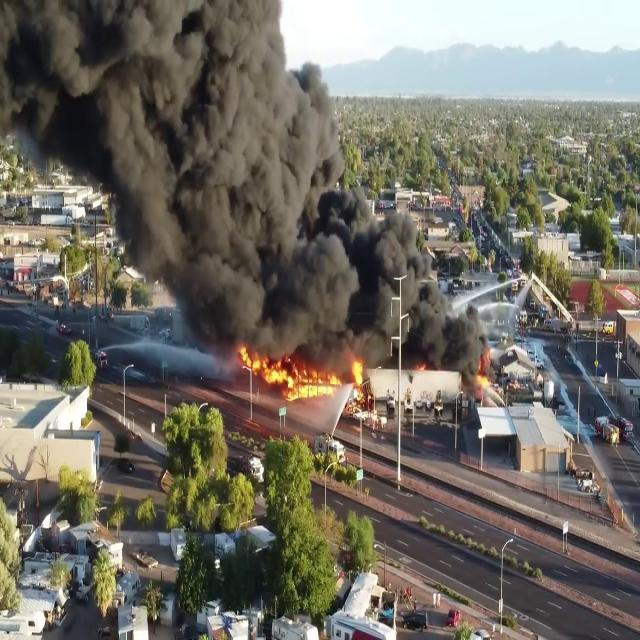Fire: (236, 346, 360, 394), (474, 359, 496, 392)
Smoke: (1, 0, 343, 344), (346, 194, 482, 398)
